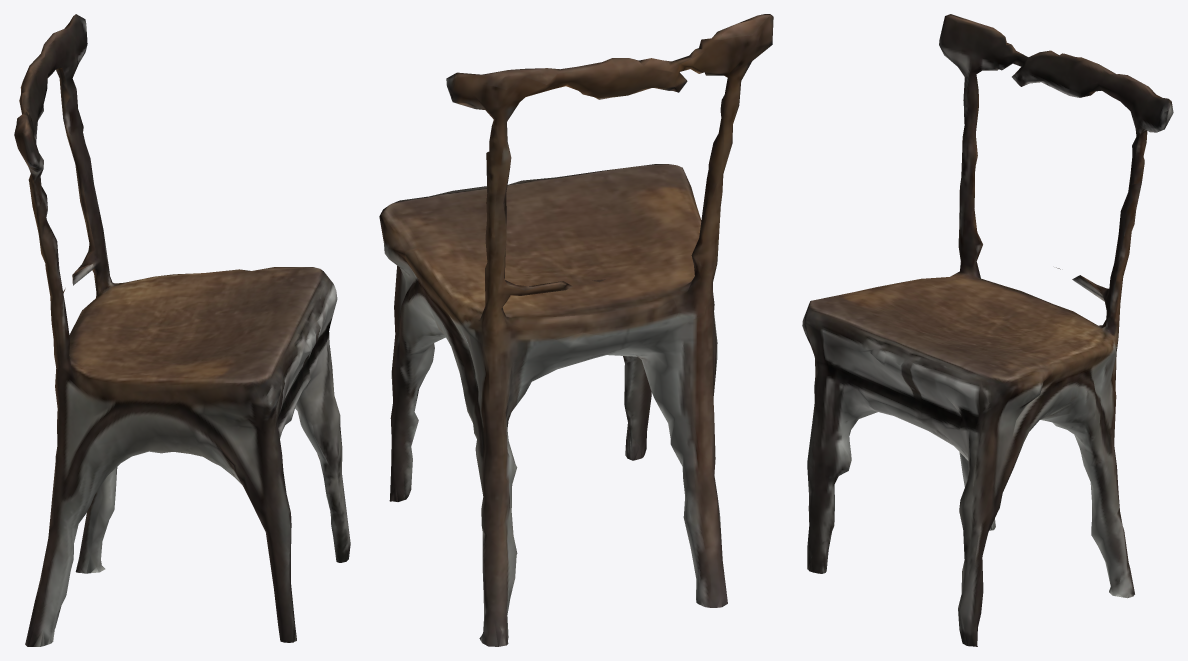
File: stul1.glb
3 renders of one model, left to right at view 1: azimuth 30°, elevation 25°; view 2: azimuth 150°, elevation 25°; view 3: azimuth 270°, elevation 25°, orthographic. The views are drawn at different scales.
Visible parts, largest first — view 1: 3DModel_LowPoly; view 2: 3DModel_LowPoly; view 3: 3DModel_LowPoly.
Part boxes in pixels (x1,y1,x2,y2): 3DModel_LowPoly: (14,14,350,646); 3DModel_LowPoly: (379,14,773,646); 3DModel_LowPoly: (802,14,1173,646).
Bounding box in the file's own units: 1.86 × 2.87 × 1.9.
1 material, 1 textured.
